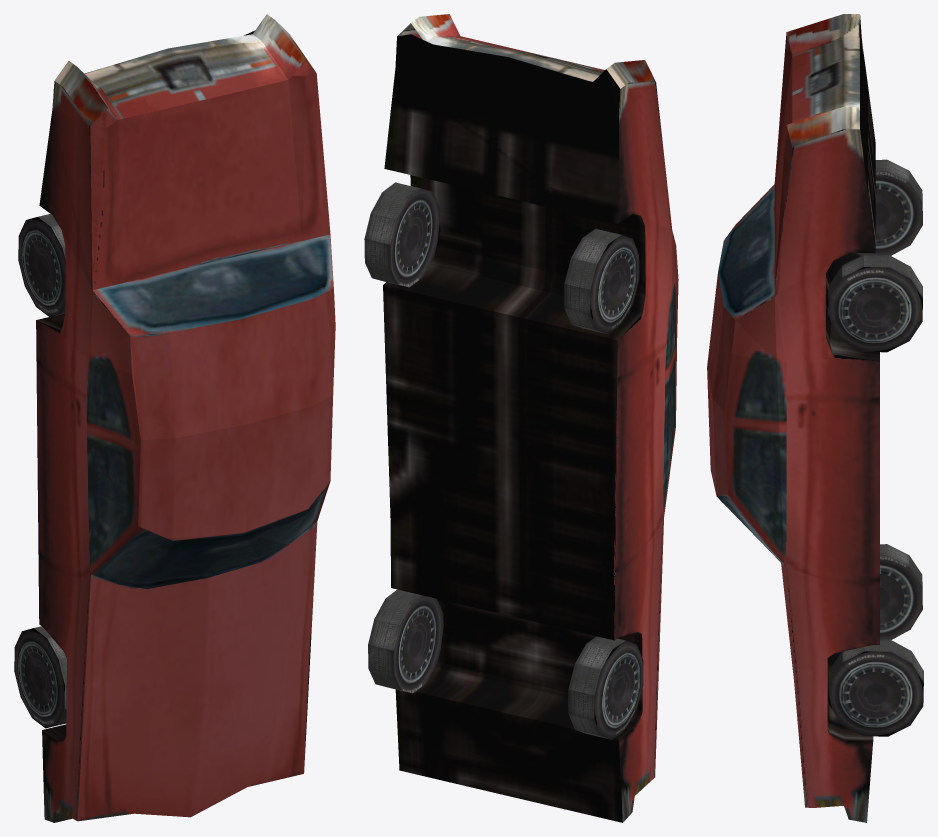
File: carpack_fin_wtf.obj
The picture shows the model from 3 angles, left to right: view 1: azimuth 30°, elevation 25°; view 2: azimuth 150°, elevation 25°; view 3: azimuth 270°, elevation 25°; orthographic projection. The views are drawn at different scales.
Parts seen in each view (by area): view 1: group2; view 2: group2; view 3: group2.
Boxes of the visible parts, box(x1,y1,x2,y2) form: group2: box(14, 14, 335, 822); group2: box(364, 14, 678, 822); group2: box(707, 14, 923, 822).
Bounding box in the file's own units: 219 × 660 × 181.
